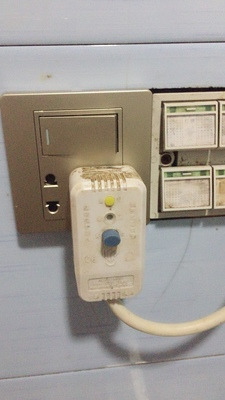switch: (37, 111, 124, 157)
